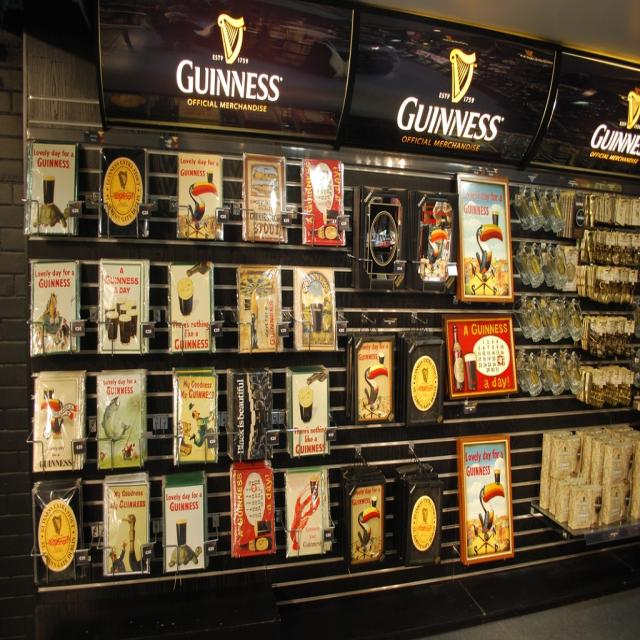guiness: (174, 10, 281, 106), (396, 49, 503, 142), (591, 85, 640, 158)
